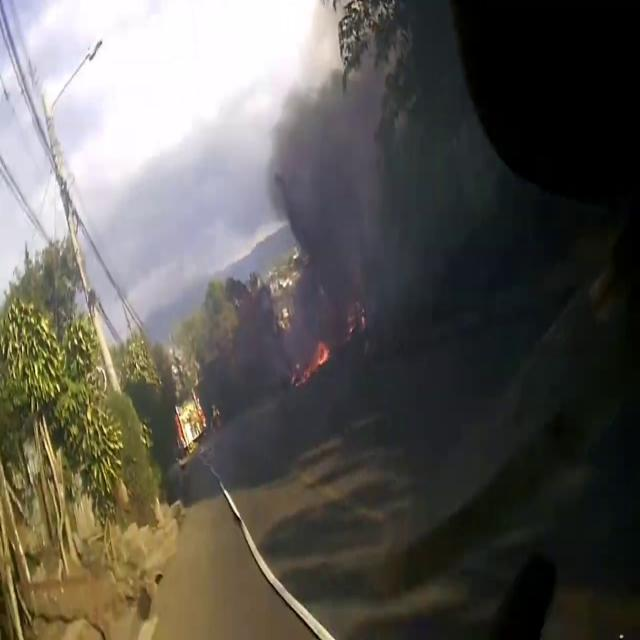Smoke: (268, 6, 498, 362)
